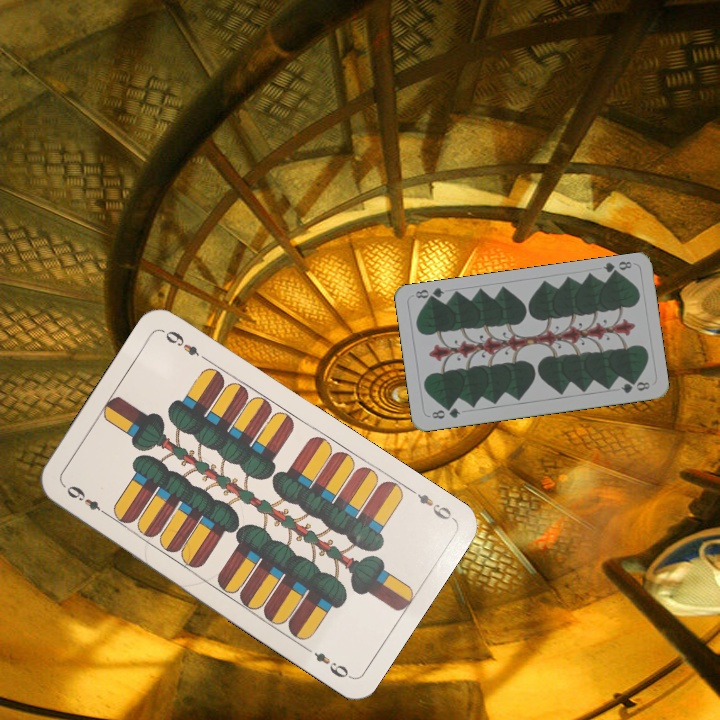E9: (404, 483, 456, 523), (62, 481, 112, 519)
G8: (599, 257, 634, 279), (427, 403, 463, 421)
